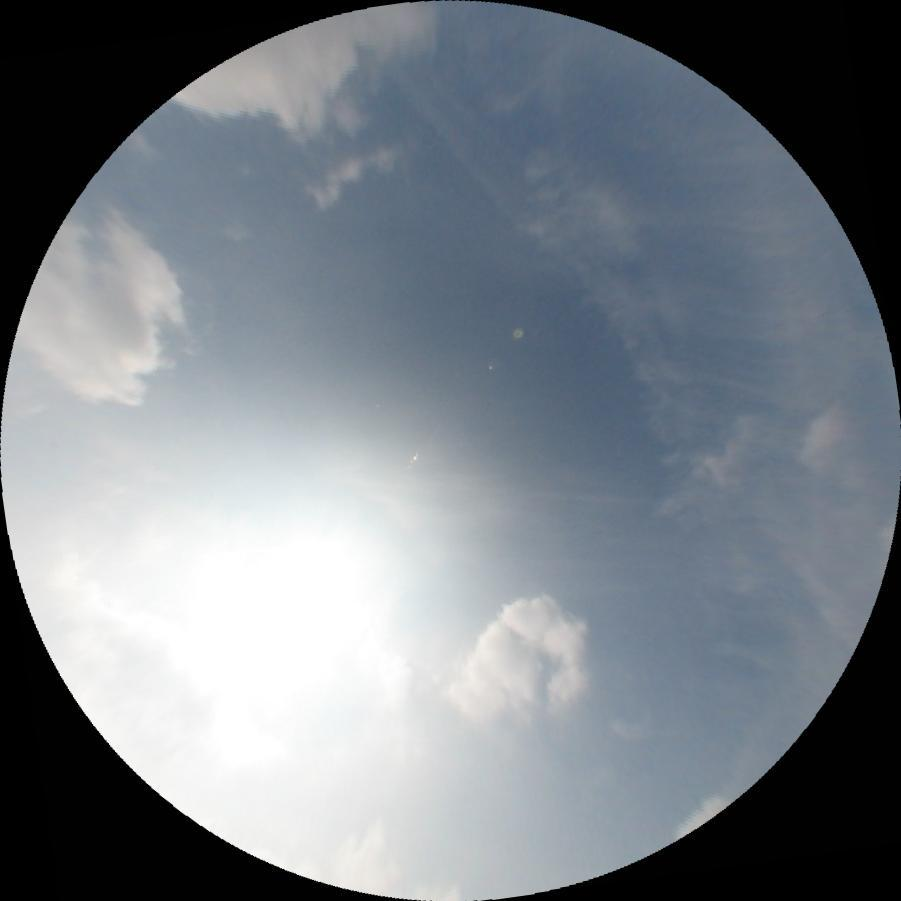contrail veryold: (390, 46, 700, 409)
sun: (217, 521, 400, 686)
